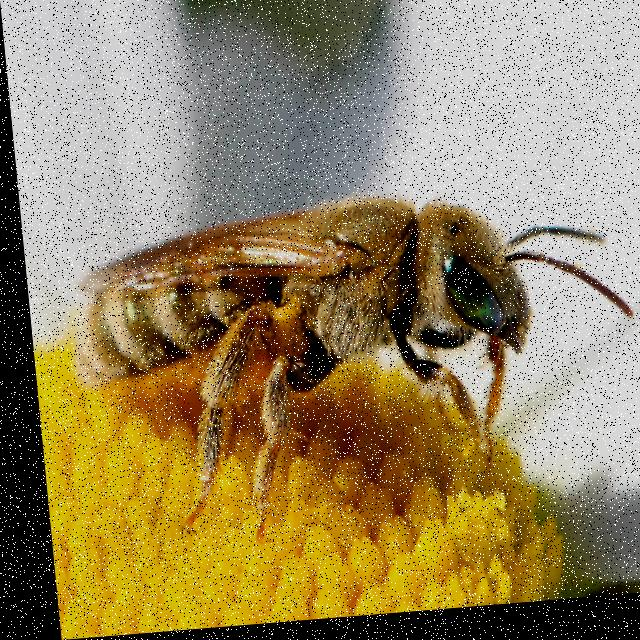Seladonia: (45, 180, 620, 481)
